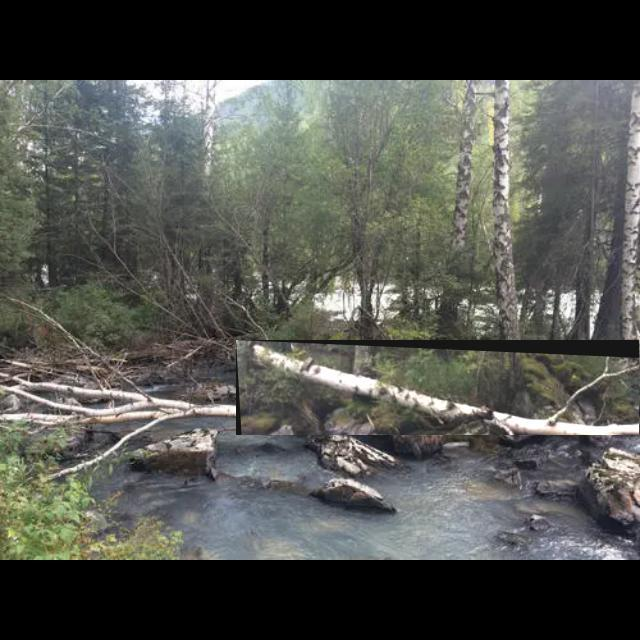fallen_tree: (236, 340, 640, 436)
